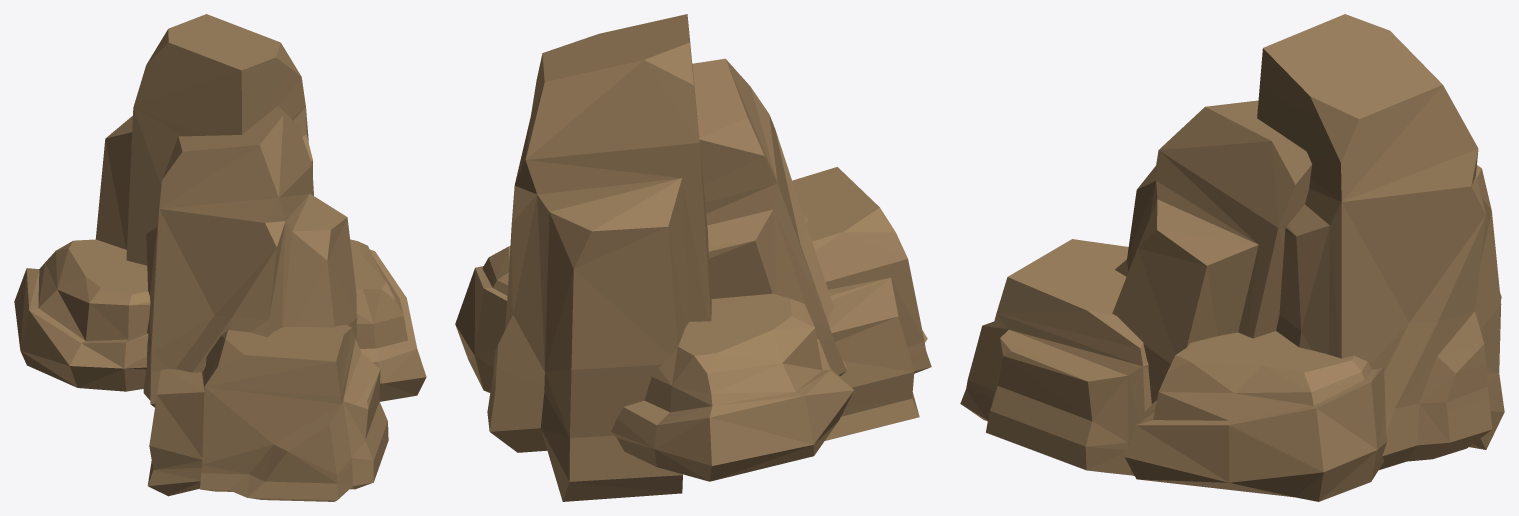
Rendered from SM_Env_RockPile_03.glb.
The picture shows the model from 3 angles, left to right: view 1: azimuth 30°, elevation 25°; view 2: azimuth 150°, elevation 25°; view 3: azimuth 270°, elevation 25°; orthographic projection. The views are drawn at different scales.
Visible parts, largest first — view 1: SM_Env_RockPile_03; view 2: SM_Env_RockPile_03; view 3: SM_Env_RockPile_03.
Part boxes in pixels (x1,y1,x2,y2): SM_Env_RockPile_03: (14,14,426,501); SM_Env_RockPile_03: (455,14,931,501); SM_Env_RockPile_03: (960,14,1504,501).
Size of the model in its own units: 4.95 by 5.2 by 6.04.
1 material, 1 textured.
